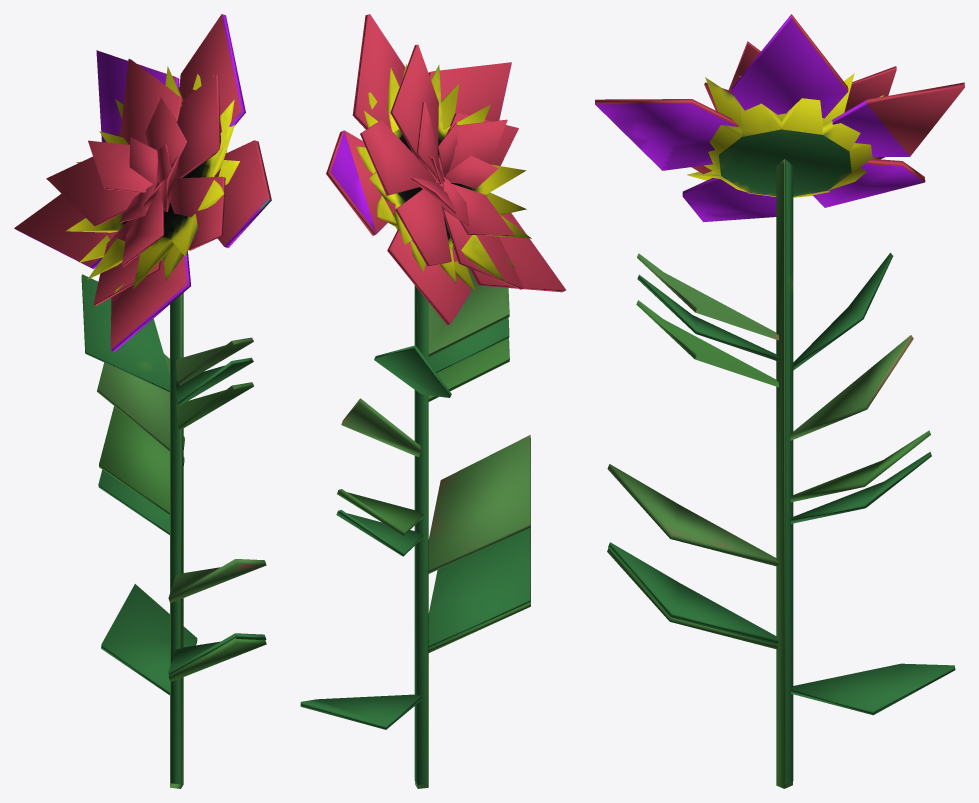
File: flowers2.glb
The picture shows the model from 3 angles, left to right: view 1: azimuth 30°, elevation 25°; view 2: azimuth 150°, elevation 25°; view 3: azimuth 270°, elevation 25°; orthographic projection. The views are drawn at different scales.
Parts seen in each view (by area): view 1: redFlower, sunflower, barvinok; view 2: redFlower, sunflower, barvinok; view 3: sunflower, barvinok, redFlower.
Boxes of the visible parts, x1,y1,x2,y2 form: redFlower: [14, 14, 271, 788]; sunflower: [65, 66, 266, 784]; barvinok: [14, 14, 271, 788]; redFlower: [326, 14, 565, 788]; sunflower: [300, 64, 531, 784]; barvinok: [330, 19, 565, 788]; sunflower: [608, 73, 955, 784]; barvinok: [595, 14, 930, 788]; redFlower: [595, 14, 964, 788].
Bounding box in the file's own units: 0.8857 × 3.83 × 1.61.
3 materials, 3 textured.
